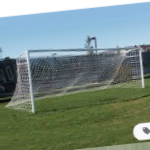goals: (6, 45, 147, 113)
